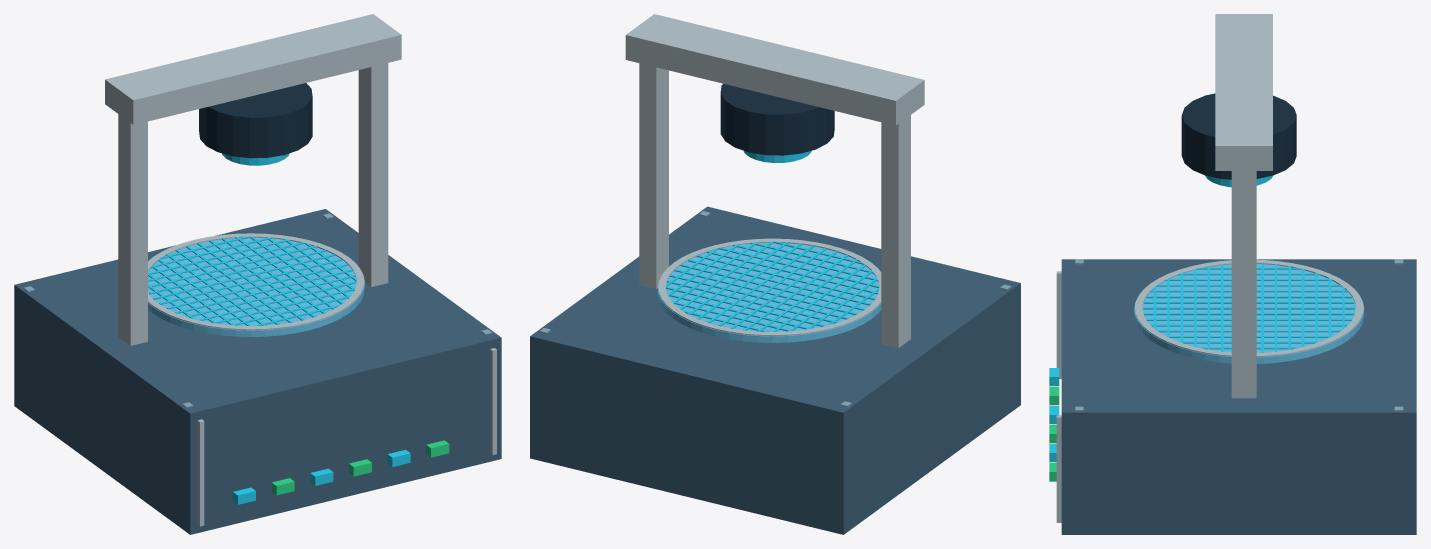
Rendered from 38_L72_ConformalFilmMetrologyScanner.fbx.
3 renders of one model, left to right at view 1: azimuth 30°, elevation 25°; view 2: azimuth 150°, elevation 25°; view 3: azimuth 270°, elevation 25°, orthographic.
Visible parts, largest first — view 1: ConformalFilmMetrologyScanner; view 2: ConformalFilmMetrologyScanner; view 3: ConformalFilmMetrologyScanner.
Boxes of the visible parts, left/top/right/bottom form: ConformalFilmMetrologyScanner: left=14, top=14, right=501, bottom=534; ConformalFilmMetrologyScanner: left=530, top=14, right=1020, bottom=534; ConformalFilmMetrologyScanner: left=1049, top=14, right=1416, bottom=534.
Size of the model in its own units: 145 by 166 by 147.
